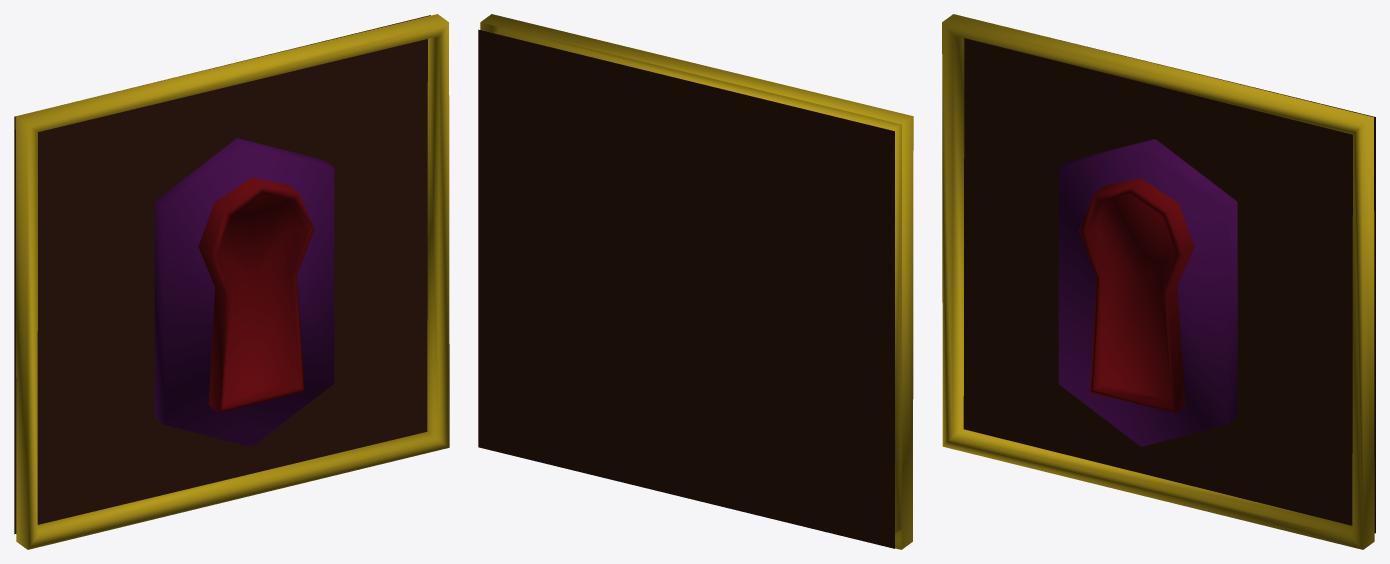
Rendered from Keyhole.fbx.
The picture shows the model from 3 angles, left to right: view 1: azimuth 30°, elevation 25°; view 2: azimuth 150°, elevation 25°; view 3: azimuth 330°, elevation 25°; orthographic projection.
Parts seen in each view (by area): view 1: Gate.001; view 2: Gate.001; view 3: Gate.001.
Part boxes in pixels (box(x1,y1,x2,y2)): Gate.001: box(14, 14, 449, 549); Gate.001: box(478, 14, 913, 549); Gate.001: box(942, 14, 1375, 549).
Bounding box in the file's own units: 269 × 259 × 42.54.
